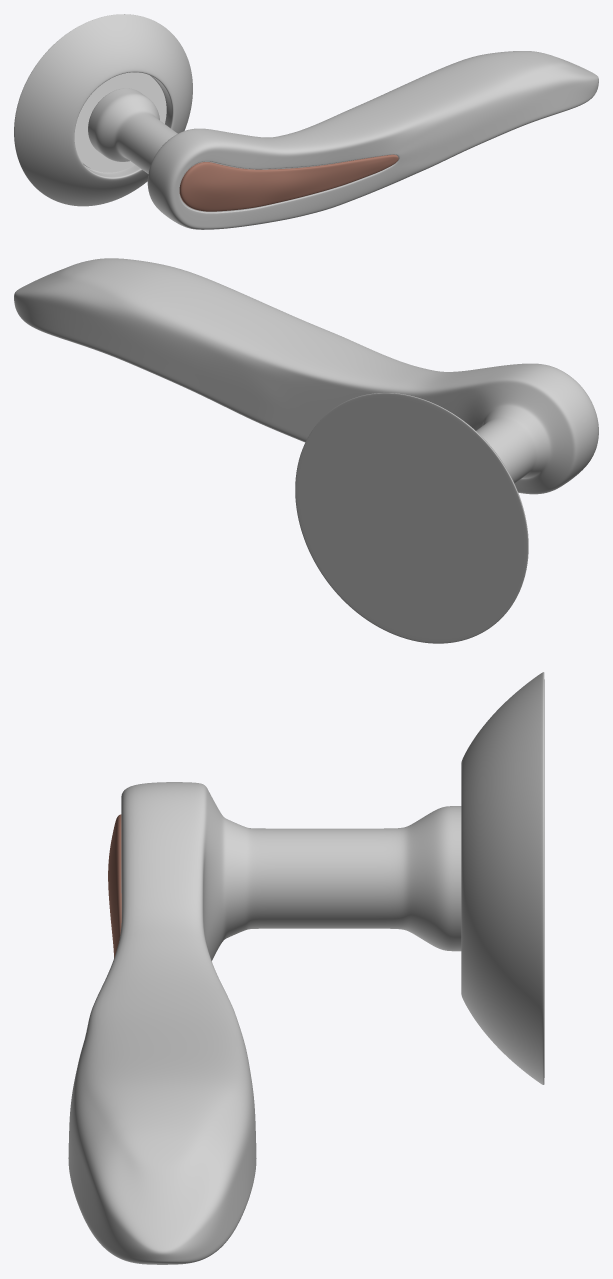
File: Handle2.gltf
3 views of the same model, one above another, from view 1: azimuth 30°, elevation 25°; view 2: azimuth 150°, elevation 25°; view 3: azimuth 270°, elevation 25° (orthographic). The views are drawn at different scales.
Visible parts, largest first — view 1: Ruchka, Kolco, RuchkaVstavka, KolcoVstavka; view 2: Ruchka, Kolco; view 3: Ruchka, Kolco, RuchkaVstavka.
Part boxes in pixels (x1=…): Ruchka: x1=88, y1=51, x2=598, y2=229; Kolco: x1=14, y1=14, x2=192, y2=206; RuchkaVstavka: x1=179, y1=154, x2=398, y2=211; KolcoVstavka: x1=74, y1=72, x2=166, y2=172; Ruchka: x1=14, y1=258, x2=598, y2=494; Kolco: x1=295, y1=393, x2=528, y2=643; Ruchka: x1=68, y1=782, x2=461, y2=1264; Kolco: x1=461, y1=672, x2=544, y2=1084; RuchkaVstavka: x1=108, y1=814, x2=121, y2=957.
Size of the model in its own units: 5.13 by 1.88 by 2.17.
